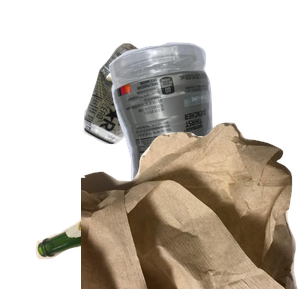glass: (33, 158, 246, 300)
metal: (81, 41, 234, 178)
plastic: (106, 40, 300, 220)
trash: (81, 120, 300, 300)
